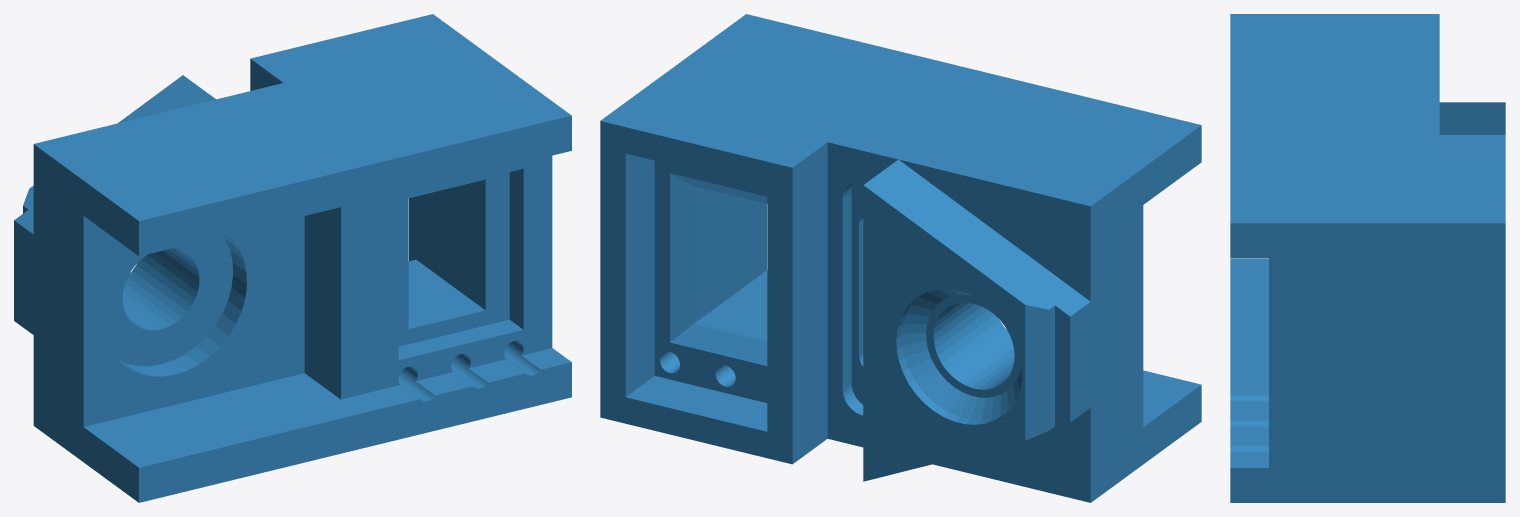
File: model_full_blue.glb
The picture shows the model from 3 angles, left to right: view 1: azimuth 30°, elevation 25°; view 2: azimuth 150°, elevation 25°; view 3: azimuth 270°, elevation 25°; orthographic projection. The views are drawn at different scales.
Visible parts, largest first — view 1: model_full.stl; view 2: model_full.stl; view 3: model_full.stl.
Boxes of the visible parts, <box> form: model_full.stl: <box>14,14,571,502</box>; model_full.stl: <box>600,14,1201,502</box>; model_full.stl: <box>1230,14,1505,502</box>.
Size of the model in its own units: 90 by 56 by 50.
